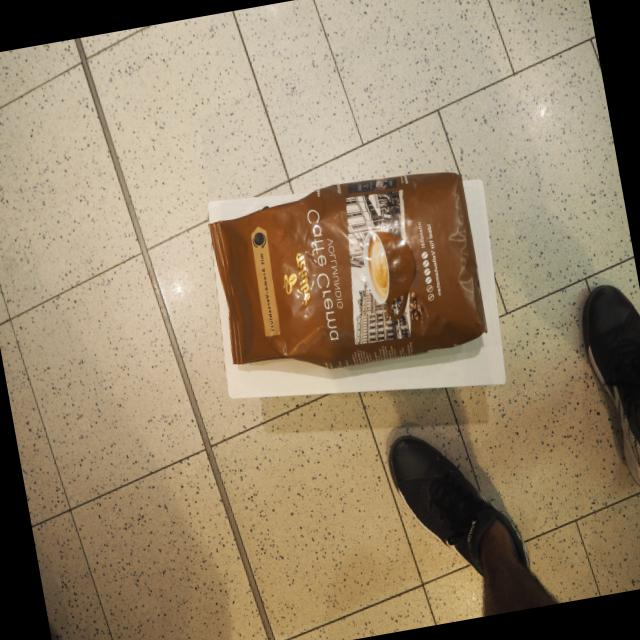CC Vollmundig 36 Pads: (200, 158, 493, 392)
